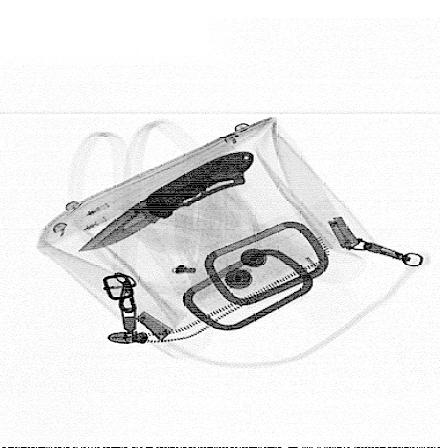Knife: (76, 151, 254, 252)
